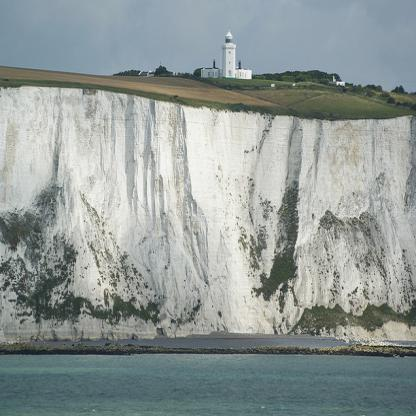Sedimentary_Chalk: (2, 110, 170, 188), (182, 116, 235, 332), (257, 124, 415, 186), (89, 202, 179, 273)
